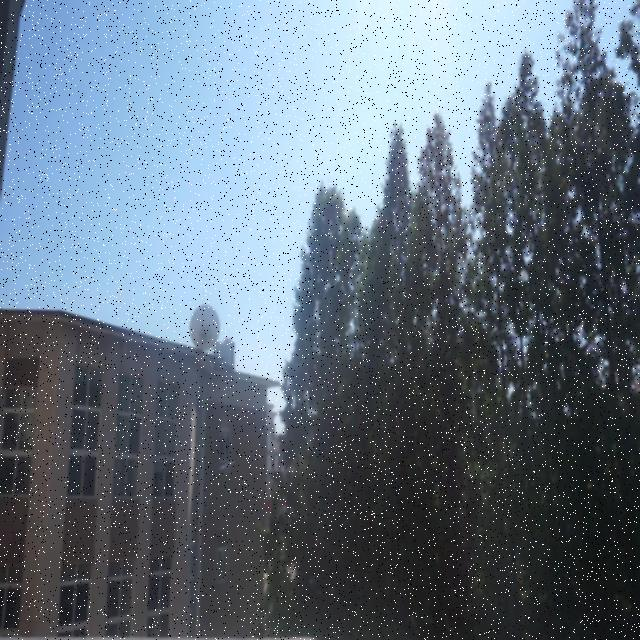UAV: (220, 461, 234, 475)
